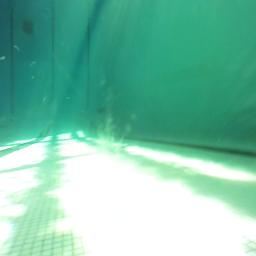Full: (22, 26, 35, 35)
